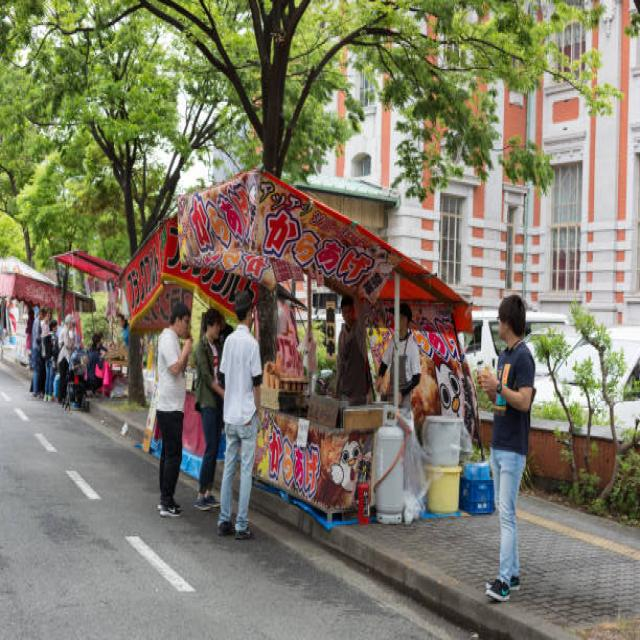Emperan: (113, 156, 531, 543)
